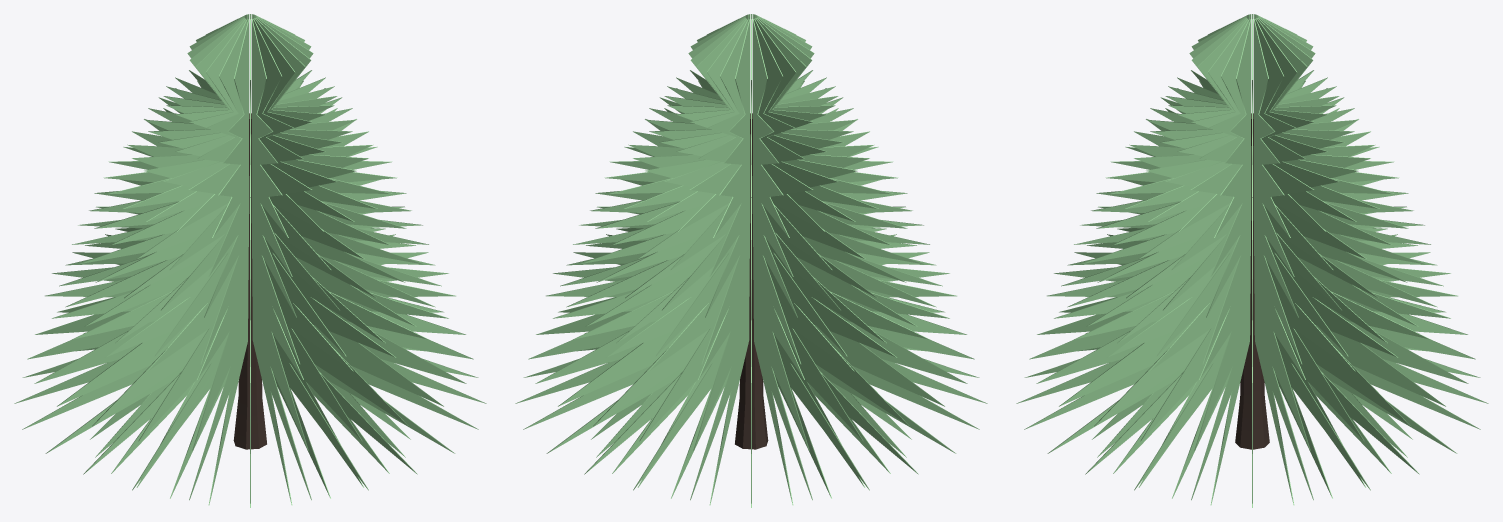
The model's file is tree4.fbx.
3 renders of one model, left to right at view 1: azimuth 30°, elevation 25°; view 2: azimuth 150°, elevation 25°; view 3: azimuth 270°, elevation 25°, orthographic.
Visible parts, largest first — view 1: polySurface1; view 2: polySurface1; view 3: polySurface1.
Boxes of the visible parts, x1=… form: polySurface1: x1=14, y1=14, x2=486, y2=507; polySurface1: x1=515, y1=14, x2=987, y2=507; polySurface1: x1=1016, y1=14, x2=1488, y2=507.
Bounding box in the file's own units: 1297 × 1289 × 1297.
